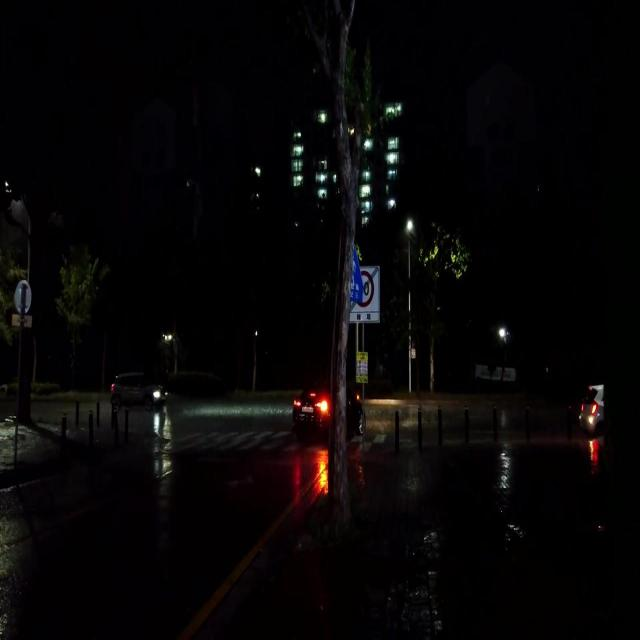Car: (108, 367, 168, 412)
